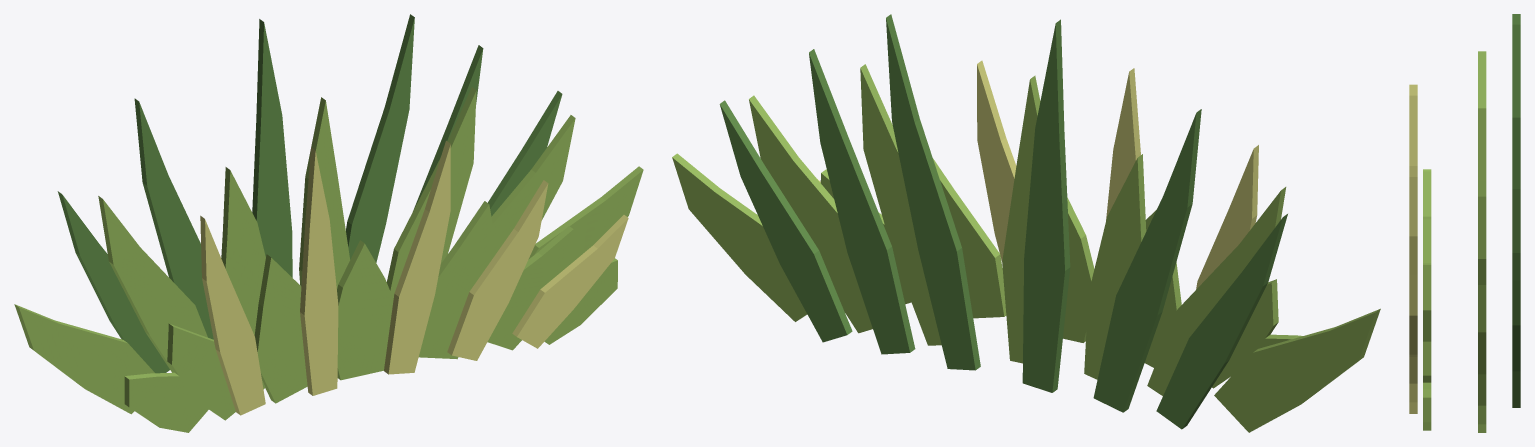
The model's file is GG-VEG-GRASS-COASTAL-TUFT-001_LOD_GAMEPLAY.glb.
The picture shows the model from 3 angles, left to right: view 1: azimuth 30°, elevation 25°; view 2: azimuth 150°, elevation 25°; view 3: azimuth 270°, elevation 25°; orthographic projection. The views are drawn at different scales.
Visible parts, largest first — view 1: GG_VEG_V2_HIGHLIGHT_BLADE_3, GG_VEG_V2_HIGHLIGHT_BLADE_2, GG_VEG_V2_REAR_BLADE_2, GG_VEG_V2_REAR_BLADE_3, GG_VEG_V2_MID_BLADE_1, GG_VEG_V2_MID_BLADE_2, GG_VEG_V2_FRONT_LEAF_4, GG_VEG_V2_HIGHLIGHT_BLADE_1, GG_VEG_V2_REAR_BLADE_1, GG_VEG_V2_HIGHLIGHT_BLADE_4, GG_VEG_V2_FRONT_LEAF_3, GG_VEG_V2_FRONT_LEAF_5 (+13 smaller); view 2: GG_VEG_V2_REAR_BLADE_2, GG_VEG_V2_REAR_BLADE_3, GG_VEG_V2_REAR_BLADE_1, GG_VEG_V2_REAR_BLADE_4, GG_VEG_V2_MID_BLADE_1, GG_VEG_V2_REAR_BLADE_6, GG_VEG_V2_REAR_BLADE_5, GG_VEG_V2_MID_BLADE_6, GG_VEG_V2_MID_BLADE_5, GG_VEG_V2_MID_BLADE_7, GG_VEG_V2_MID_BLADE_3, GG_VEG_V2_MID_BLADE_2 (+9 smaller); view 3: GG_VEG_V2_REAR_BLADE_6, GG_VEG_V2_HIGHLIGHT_BLADE_3, GG_VEG_V2_REAR_BLADE_2, GG_VEG_V2_REAR_BLADE_4, GG_VEG_V2_MID_BLADE_6, GG_VEG_V2_MID_BLADE_4, GG_VEG_V2_MID_BLADE_5, GG_VEG_V2_HIGHLIGHT_BLADE_4, GG_VEG_V2_HIGHLIGHT_BLADE_2, GG_VEG_V2_FRONT_LEAF_5, GG_VEG_V2_REAR_BLADE_3, GG_VEG_V2_MID_BLADE_7 (+6 smaller).
Boxes of the visible parts, <box> form: GG_VEG_V2_HIGHLIGHT_BLADE_3: <box>384,140,450,374</box>; GG_VEG_V2_HIGHLIGHT_BLADE_2: <box>300,147,338,395</box>; GG_VEG_V2_REAR_BLADE_2: <box>252,19,292,277</box>; GG_VEG_V2_REAR_BLADE_3: <box>346,14,414,262</box>; GG_VEG_V2_MID_BLADE_1: <box>14,304,154,414</box>; GG_VEG_V2_MID_BLADE_2: <box>98,196,207,372</box>; GG_VEG_V2_FRONT_LEAF_4: <box>337,240,393,380</box>; GG_VEG_V2_HIGHLIGHT_BLADE_1: <box>200,215,265,415</box>; GG_VEG_V2_REAR_BLADE_1: <box>134,98,213,339</box>; GG_VEG_V2_HIGHLIGHT_BLADE_4: <box>447,180,548,360</box>; GG_VEG_V2_FRONT_LEAF_3: <box>254,254,307,403</box>; GG_VEG_V2_FRONT_LEAF_5: <box>419,201,496,359</box>; GG_VEG_V2_REAR_BLADE_2: <box>1022,19,1070,392</box>; GG_VEG_V2_REAR_BLADE_3: <box>886,14,980,370</box>; GG_VEG_V2_REAR_BLADE_1: <box>1093,109,1201,412</box>; GG_VEG_V2_REAR_BLADE_4: <box>809,49,915,354</box>; GG_VEG_V2_MID_BLADE_1: <box>1214,308,1380,432</box>; GG_VEG_V2_REAR_BLADE_6: <box>719,100,852,342</box>; GG_VEG_V2_REAR_BLADE_5: <box>1156,214,1287,429</box>; GG_VEG_V2_MID_BLADE_6: <box>749,95,872,333</box>; GG_VEG_V2_MID_BLADE_5: <box>860,64,941,345</box>; GG_VEG_V2_MID_BLADE_7: <box>672,153,807,321</box>; GG_VEG_V2_MID_BLADE_3: <box>1084,154,1146,379</box>; GG_VEG_V2_MID_BLADE_2: <box>1147,187,1286,395</box>; GG_VEG_V2_REAR_BLADE_6: <box>1512,280,1520,407</box>; GG_VEG_V2_HIGHLIGHT_BLADE_3: <box>1409,177,1417,274</box>; GG_VEG_V2_REAR_BLADE_2: <box>1512,24,1520,117</box>; GG_VEG_V2_REAR_BLADE_4: <box>1512,189,1520,280</box>; GG_VEG_V2_MID_BLADE_6: <box>1478,285,1486,374</box>; GG_VEG_V2_MID_BLADE_4: <box>1478,108,1486,196</box>; GG_VEG_V2_MID_BLADE_5: <box>1478,196,1486,284</box>; GG_VEG_V2_HIGHLIGHT_BLADE_4: <box>1409,274,1417,356</box>; GG_VEG_V2_HIGHLIGHT_BLADE_2: <box>1409,95,1417,176</box>; GG_VEG_V2_FRONT_LEAF_5: <box>1423,265,1431,341</box>; GG_VEG_V2_REAR_BLADE_3: <box>1512,117,1520,188</box>; GG_VEG_V2_MID_BLADE_7: <box>1478,374,1486,432</box>.
Size of the model in its own units: 1.39 by 0.7296 by 0.243.
